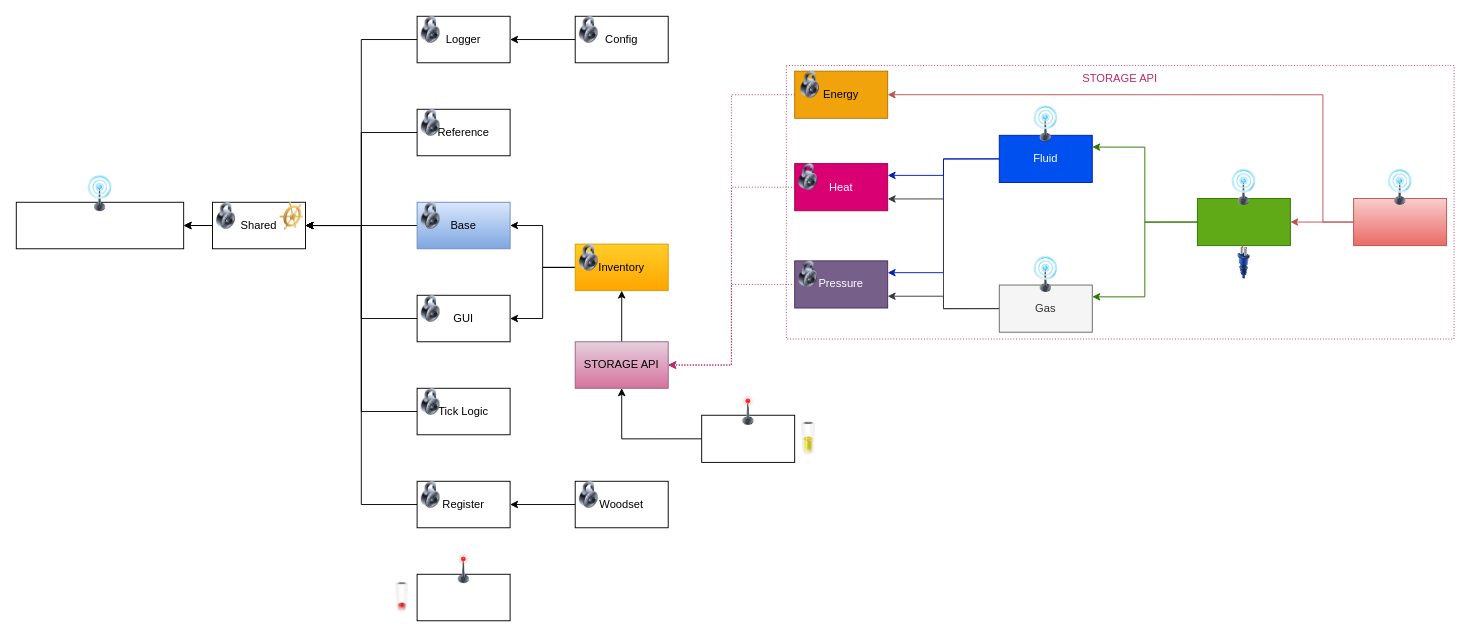
Some shapes in this 1470 by 637 pixel diagram are drawn without their labels. The centre of each missing label's shape, as x and y in pixels:
Dispersion: point (1243, 222)
Ji Libs: point (99, 225)
Machina: point (1400, 222)
Multi Block: point (463, 597)
Pipe Network: point (748, 438)
